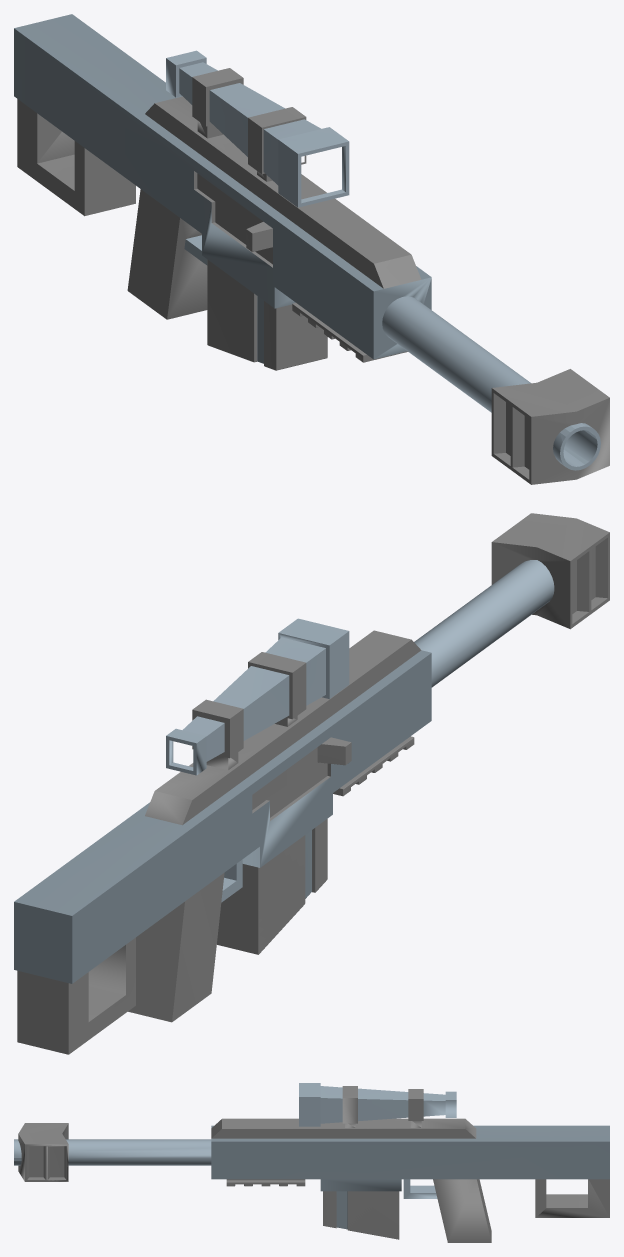
Rendered from sniper.glb.
The picture shows the model from 3 angles, top to bottom: view 1: azimuth 30°, elevation 25°; view 2: azimuth 150°, elevation 25°; view 3: azimuth 270°, elevation 25°; orthographic projection. The views are drawn at different scales.
Visible parts, largest first — view 1: Group.003, Group.001, Group, Group.002; view 2: Group.003, Group.001, Group.002, Group; view 3: Group.003, Group.001, Group.
Part boxes in pixels (x1,y1,x2,y2): Group.003: (14, 14, 609, 484); Group.001: (207, 259, 327, 370); Group: (292, 302, 407, 362); Group.002: (246, 221, 272, 251); Group.003: (14, 513, 609, 1054); Group.001: (217, 819, 327, 954); Group.002: (317, 737, 351, 765); Group: (333, 736, 414, 796); Group.003: (14, 1083, 609, 1242); Group.001: (323, 1191, 399, 1239); Group: (226, 1179, 305, 1186).
Bounding box in the file's own units: 0.0995 × 0.2833 × 1.04.
